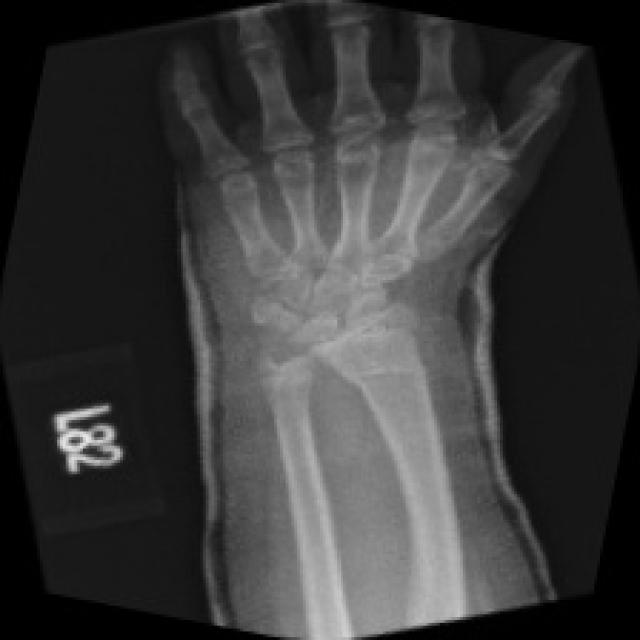fracture: (332, 347, 477, 437)
